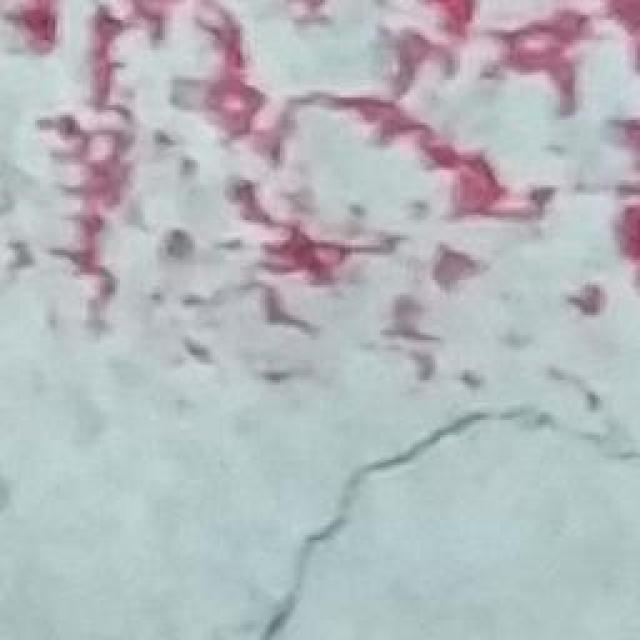Diagonal: (237, 388, 640, 640)
Rippled: (2, 2, 640, 342)
